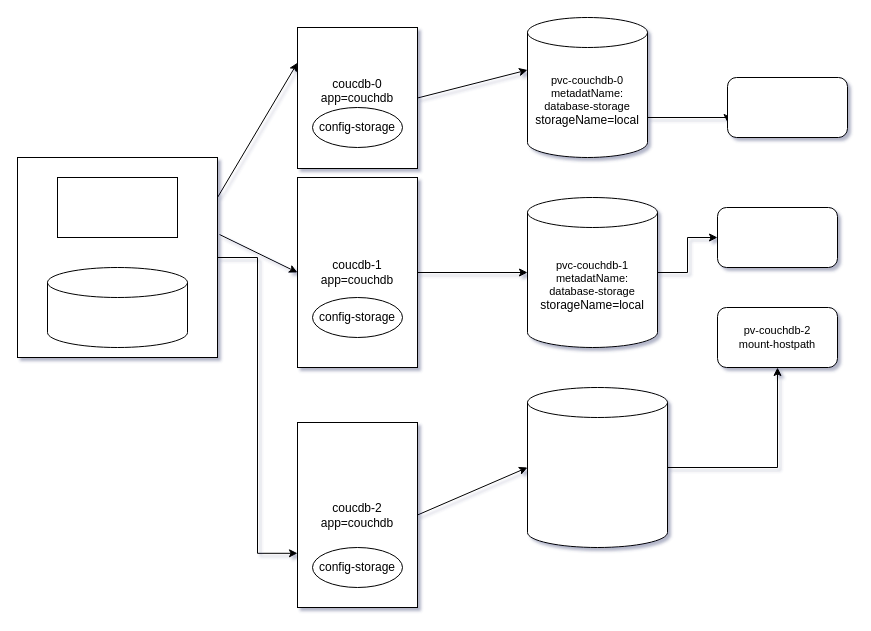
Image size: 871x631. Some labels were removed from this diagram. Each missing label, with the centre of its shape:
"pv-couchdb-0 mount-hostpath" belongs at (787,107).
"pv-couchdb-1 mount-hostpath" belongs at (777,237).
"pvc-couchdb-2 metadatName: database-storage storageName=local" belongs at (597,467).
"Statefulser name:couchdb app=couchdb" belongs at (117,207).
"volumeClaimTemplates: storageName=local" belongs at (117,307).
